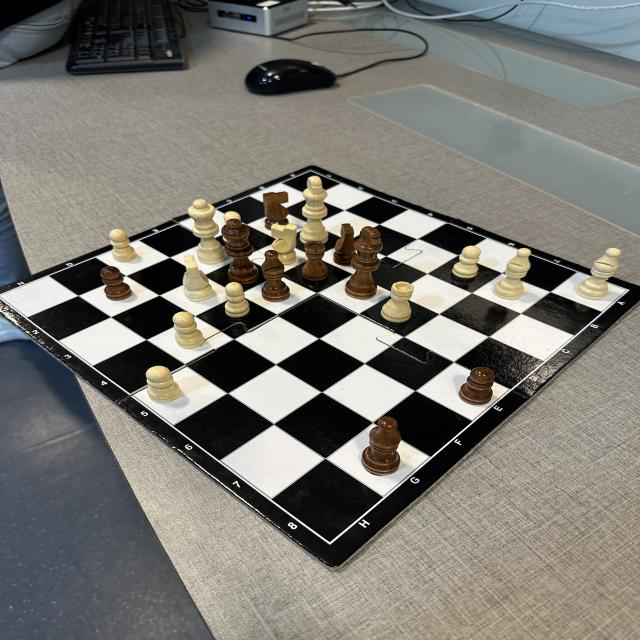Black-Bishop: (361, 416, 402, 476), (261, 250, 291, 302)
Black-King: (344, 226, 384, 300)
Black-Knight: (263, 191, 290, 229), (333, 223, 356, 266)
Black-Pawn: (458, 367, 495, 406), (100, 266, 133, 301)
Black-Rook: (301, 241, 329, 281)
White-Bishop: (576, 248, 622, 300), (493, 248, 531, 300)
White-King: (300, 176, 328, 245)
White-Knight: (182, 254, 214, 302), (271, 223, 298, 265)
White-Pawn: (145, 365, 182, 403), (172, 311, 205, 349), (451, 246, 481, 278), (110, 228, 138, 262), (224, 282, 250, 318), (224, 211, 242, 221)
White-Queen: (188, 198, 228, 264), (221, 218, 260, 285)
White-Rook: (380, 281, 414, 323)
